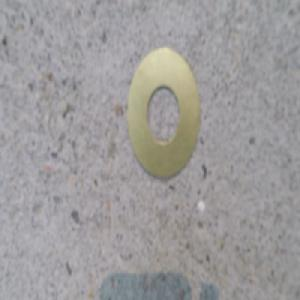Washer: (122, 45, 201, 183)
